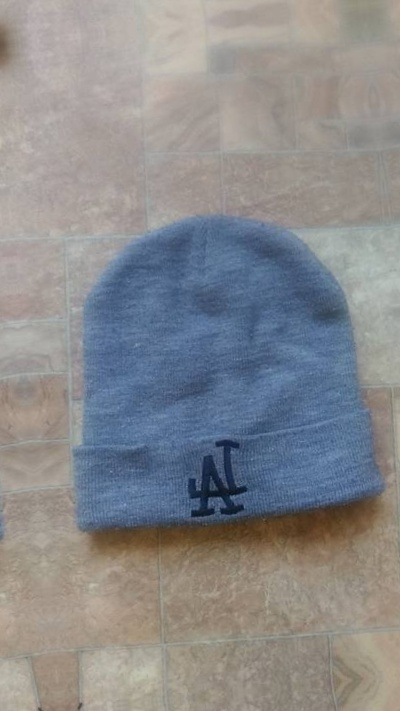Hat: (30, 194, 394, 570), (0, 236, 21, 611)
